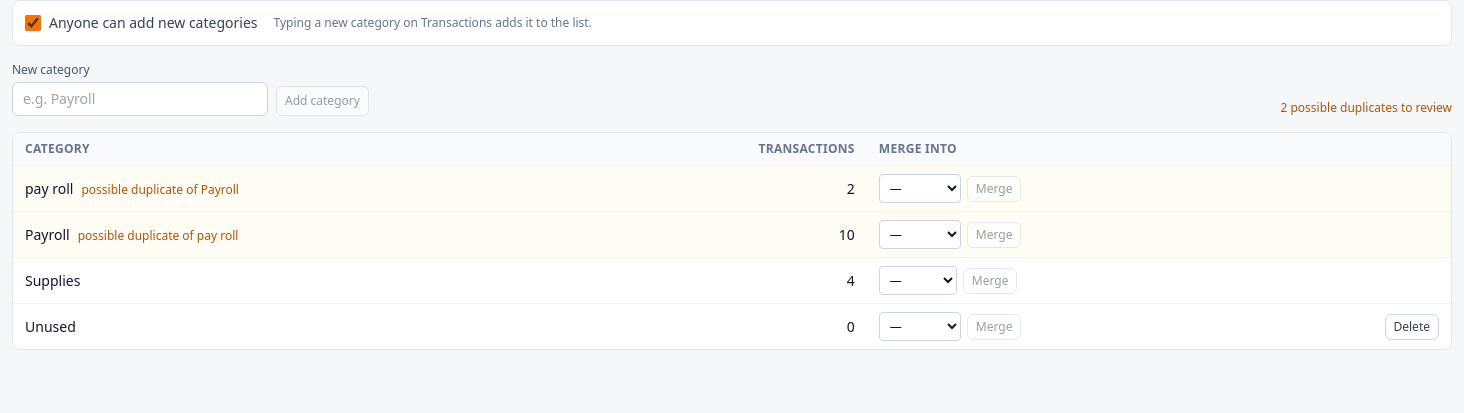
Test: TransactionCategoriesManager › adds a category
This screenshot has width=1464, height=413.
Step 1. Type "Utilities" into the field labelled "New category" → coordinates (140, 99), box [12, 82, 268, 116]
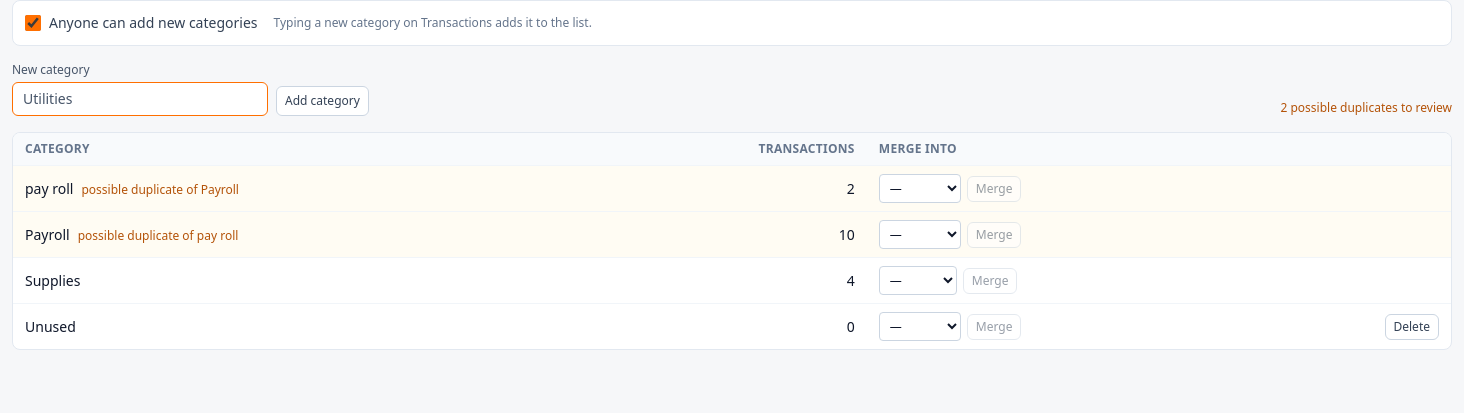
Step 2. Click the button "Add category" → coordinates (322, 101), box [276, 86, 369, 116]
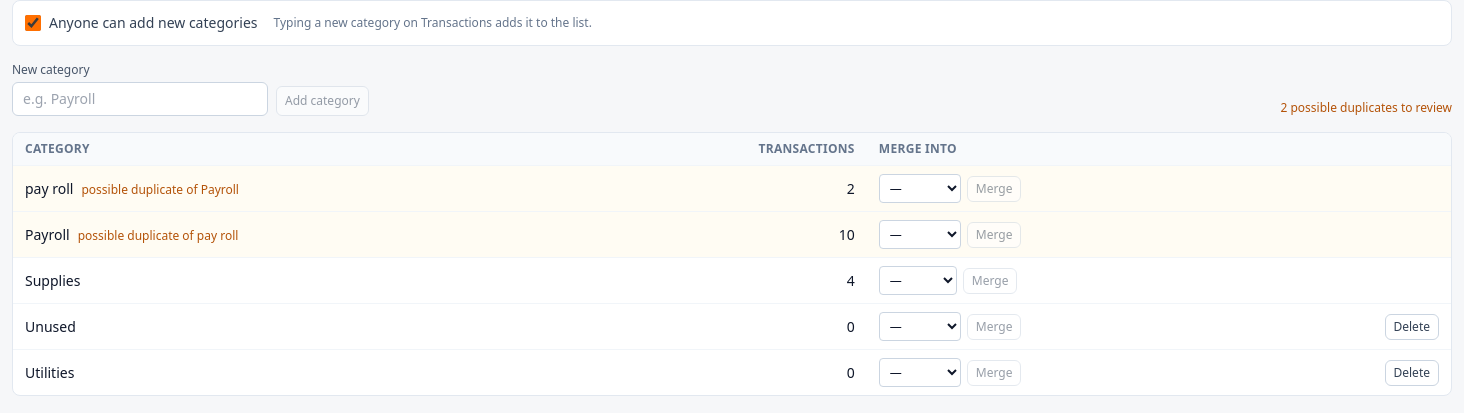
Now the cell "Utilities" is shown, box [13, 350, 580, 395]
